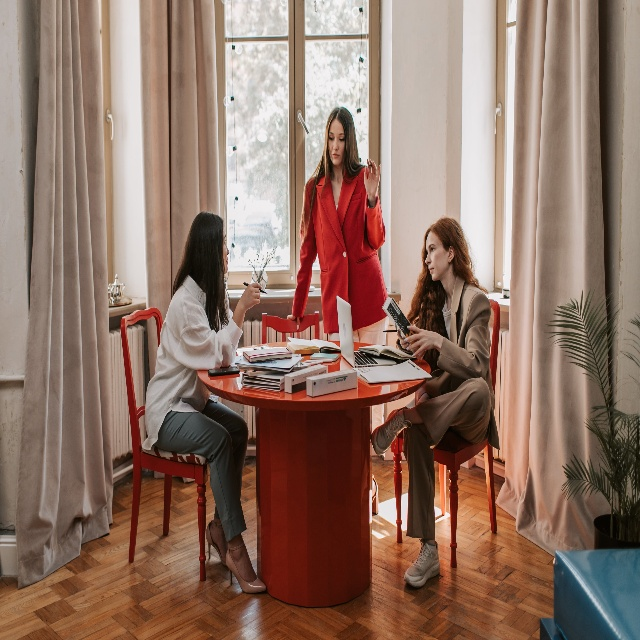Sin_guantes: (404, 324, 435, 357), (364, 158, 381, 199), (240, 282, 262, 310), (396, 329, 409, 350), (287, 313, 300, 330)
